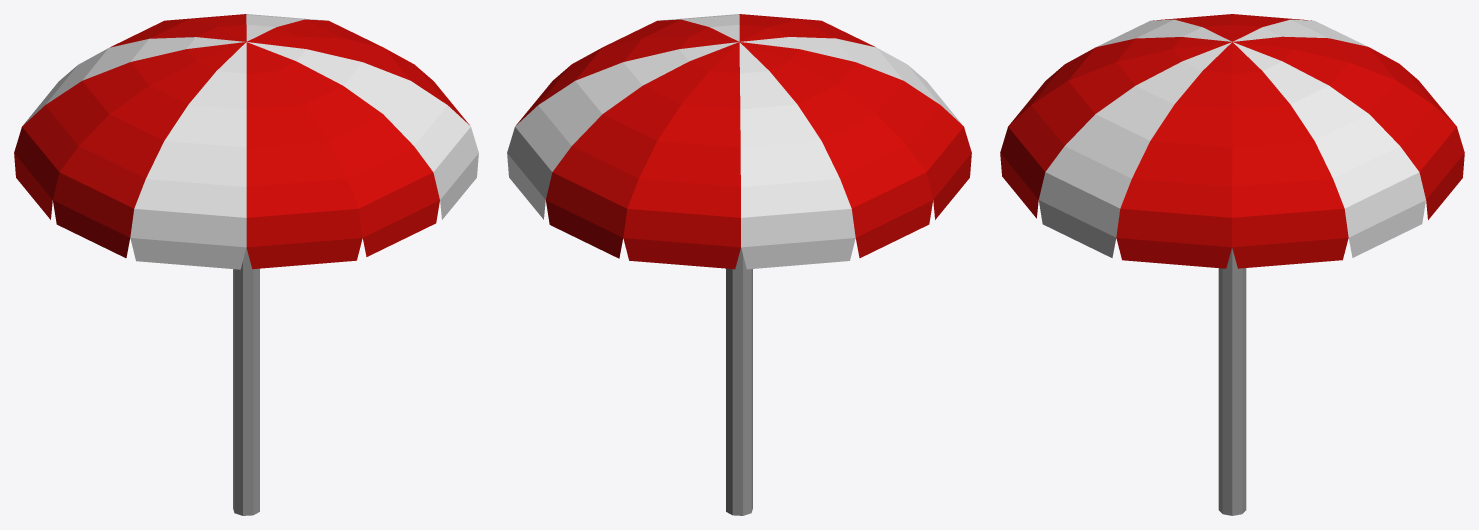
File: Umbrella_5.fbx
The picture shows the model from 3 angles, left to right: view 1: azimuth 30°, elevation 25°; view 2: azimuth 150°, elevation 25°; view 3: azimuth 270°, elevation 25°; orthographic projection.
Parts seen in each view (by area): view 1: Top, Base; view 2: Top, Base; view 3: Top, Base.
Boxes of the visible parts, x1,y1,x2,y2 form: Top: (14,14,478,269); Base: (233,247,259,515); Top: (507,14,971,269); Base: (726,248,752,515); Top: (1000,14,1464,268); Base: (1218,248,1246,515).
Bounding box in the file's own units: 173 × 200 × 180.
